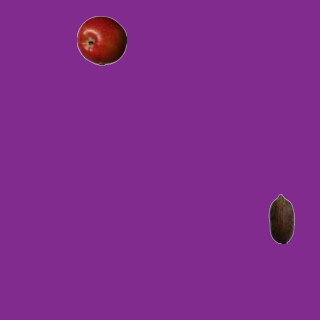Apple Braeburn: (76, 15, 126, 65)
Nut Pecan: (256, 193, 306, 243)
